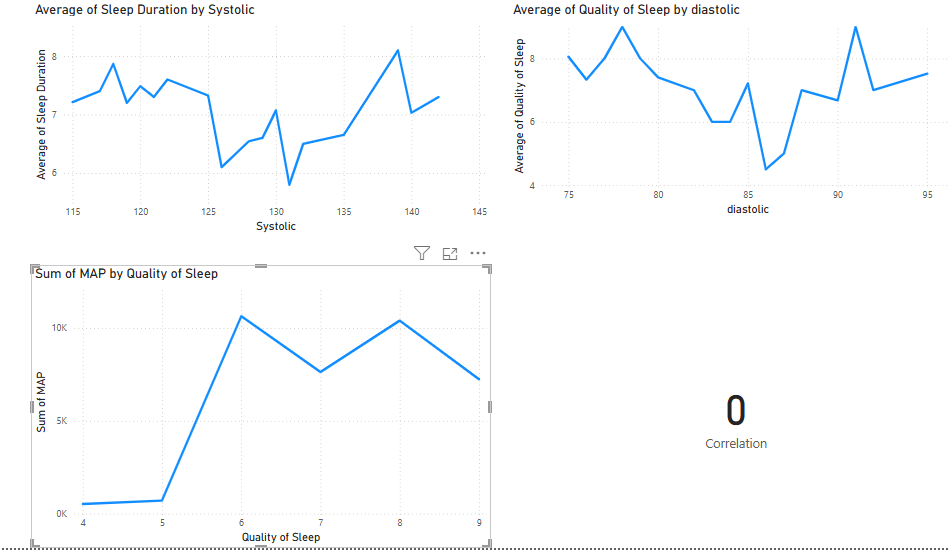

What the dashboard file says about the page in this screenshot:
{"tool":"powerbi","page":{"name":"Sleep vs BP","canvas":[1280,720],"ordinal":0},"visuals":[{"type":"lineChart","fields":{"Y":["Avg(Sleep_health_and_lifestyle_dataset.Sleep Duration)"],"Category":["SleepData.Systolic"]},"box":[99.4,22.9,586.5,299.6],"z":0},{"type":"card","fields":{"Values":["SleepData.Correlation"]},"box":[848.1,447.7,301.2,201.9],"z":1},{"type":"lineChart","fields":{"Y":["Avg(SleepData.Quality of Sleep)"],"Category":["SleepData.diastolic"]},"box":[708.8,22.9,571.2,277.9],"z":2},{"type":"lineChart","fields":{"Category":["SleepData.Quality of Sleep"],"Y":["Sum(SleepData.MAP)"]},"box":[99.2,360,586.2,360],"z":3}]}

Visuals, with their boxes on the page's 1280x720 design canvas (x1, y1, x2, y2). These are canvas units, not pixel positions in the 948x555 screenshot, which may show the page scaled, cropped or inside an application window:
lineChart - Avg(Sleep_health_and_lifestyle_dataset.Sleep Duration) x SleepData.Systolic: [left=99, top=23, right=686, bottom=322]
card - SleepData.Correlation: [left=848, top=448, right=1149, bottom=650]
lineChart - Avg(SleepData.Quality of Sleep) x SleepData.diastolic: [left=709, top=23, right=1280, bottom=301]
lineChart - SleepData.Quality of Sleep x Sum(SleepData.MAP): [left=99, top=360, right=685, bottom=720]
